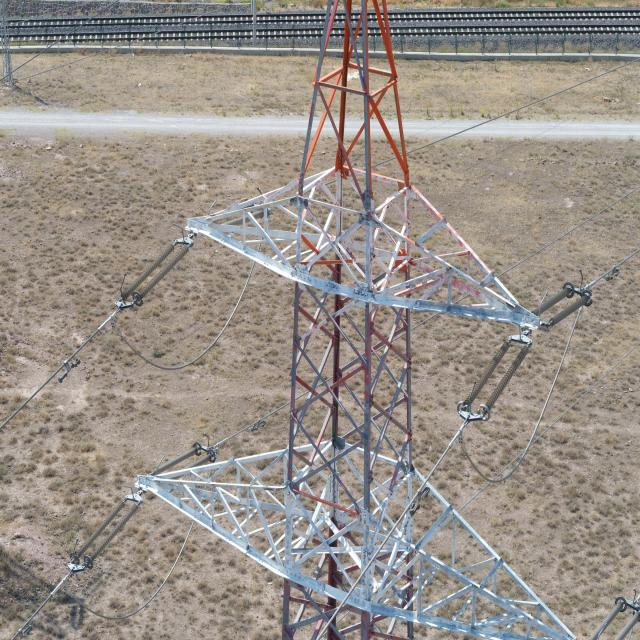direk: (210, 17, 485, 640)
